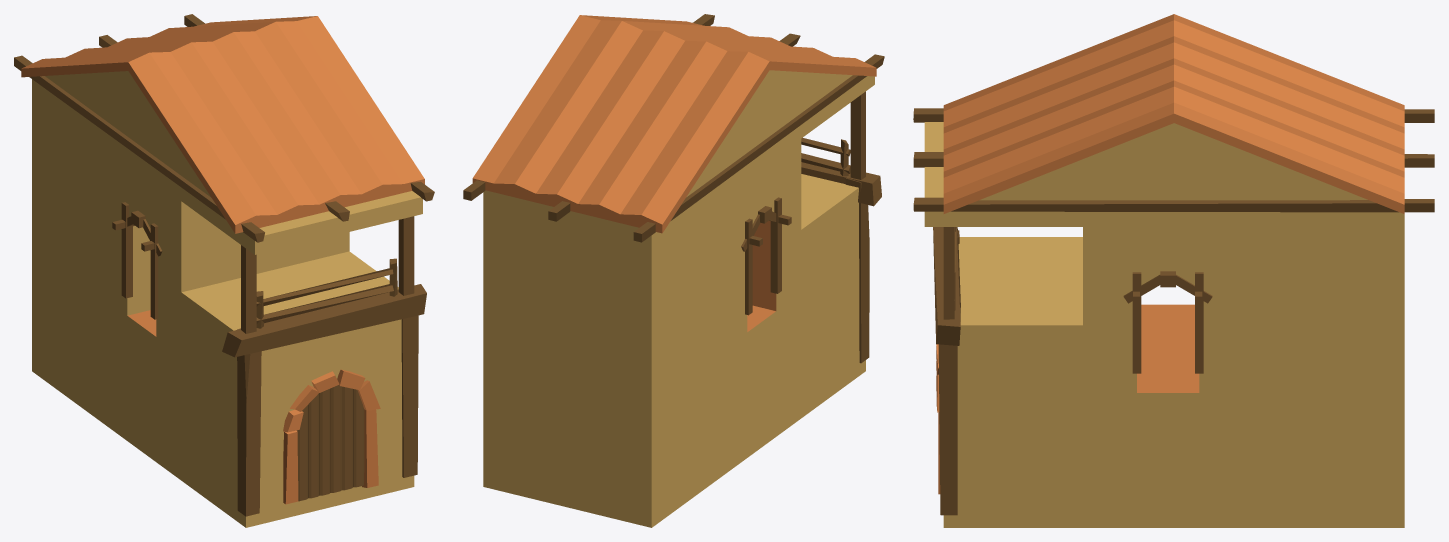
Rendered from Sitting_Tower.fbx.
The picture shows the model from 3 angles, left to right: view 1: azimuth 30°, elevation 25°; view 2: azimuth 150°, elevation 25°; view 3: azimuth 270°, elevation 25°; orthographic projection. The views are drawn at different scales.
Visible parts, largest first — view 1: Sitting_Tower; view 2: Sitting_Tower; view 3: Sitting_Tower.
Part boxes in pixels (x1,y1,x2,y2): Sitting_Tower: (14,14,434,527); Sitting_Tower: (463,14,884,527); Sitting_Tower: (913,14,1434,527).
Size of the model in its own units: 557 by 1056 by 1174.
